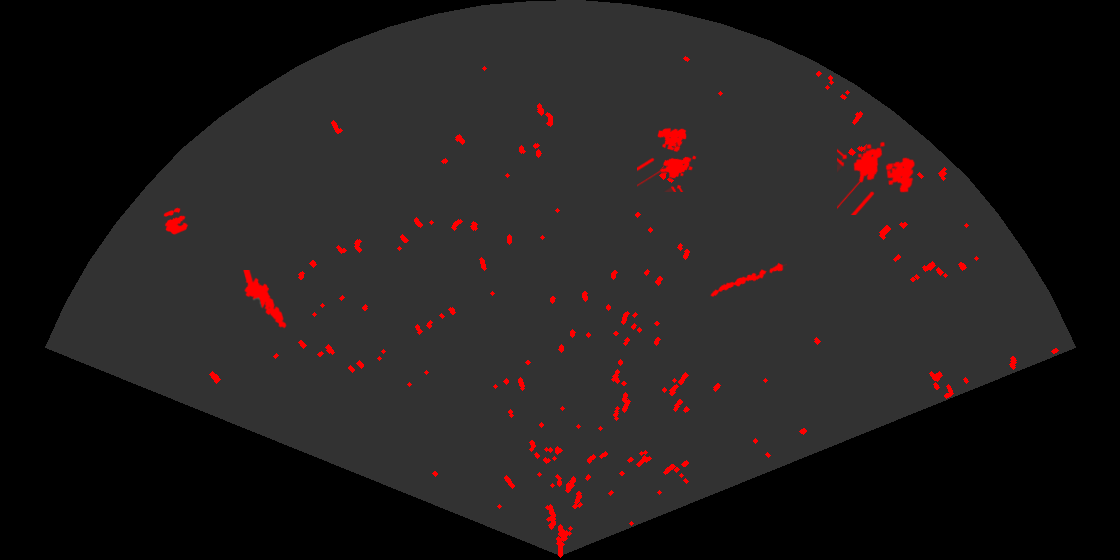ball: (162, 206, 190, 236)
cage: (837, 140, 917, 215), (637, 126, 698, 192)
chain: (708, 261, 787, 298)
frogman: (242, 270, 288, 330)
